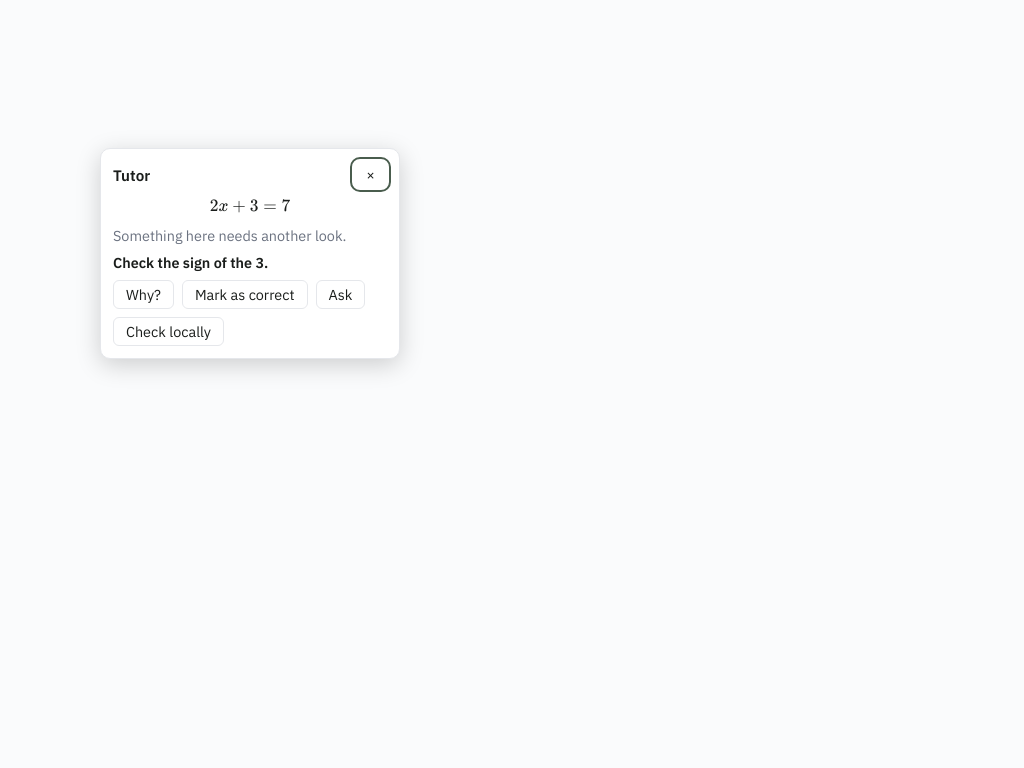
TutorCard › card_reveal_ladder_hint_why_next
The image size is (1024, 768).
Expected: the dialog "Tutor" shows "Check the sign of the 3.", [113,253,268,272]
Expected: the element with class "katex" is shown, [210,196,290,216]
Click the button "Why?" at (143, 294), box [113,280,174,309]
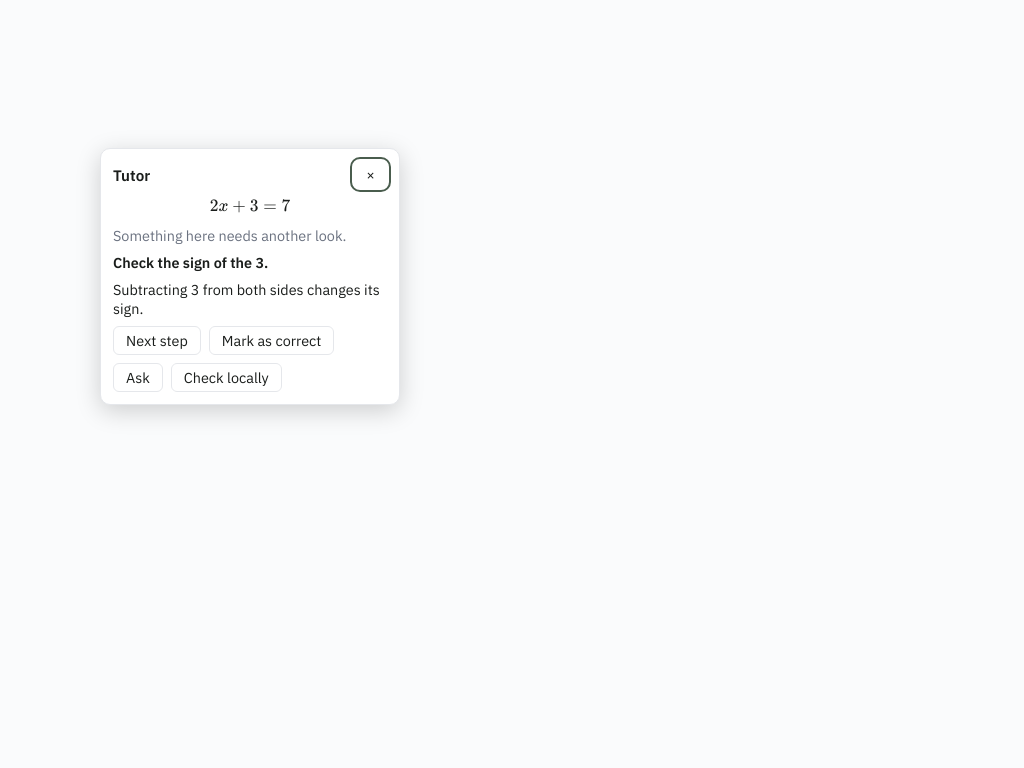
Expected: the text "Write 2x = 7 - 3." is not shown
Expected: the text "Subtracting 3 from both sides changes its sign." is shown, [113,280,387,318]
Click the button "Next step" at (157, 340), box [113,326,201,355]
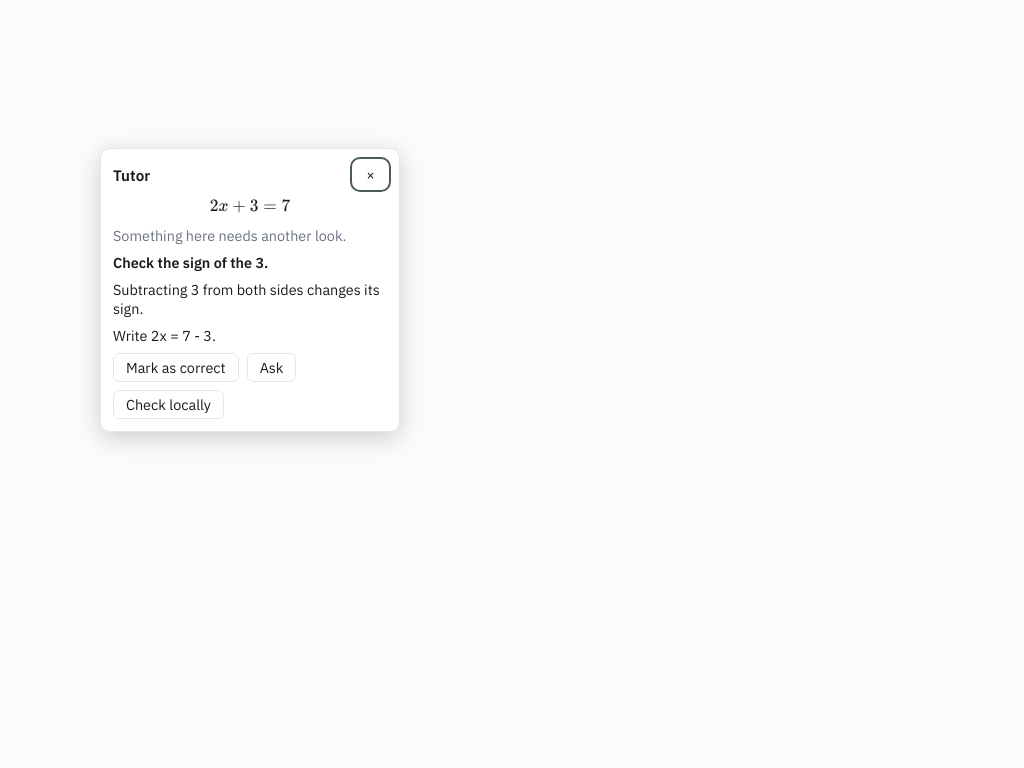
Expected: the button "Why?" is not shown
Expected: the text "Write 2x = 7 - 3." is shown, [113,326,216,345]
